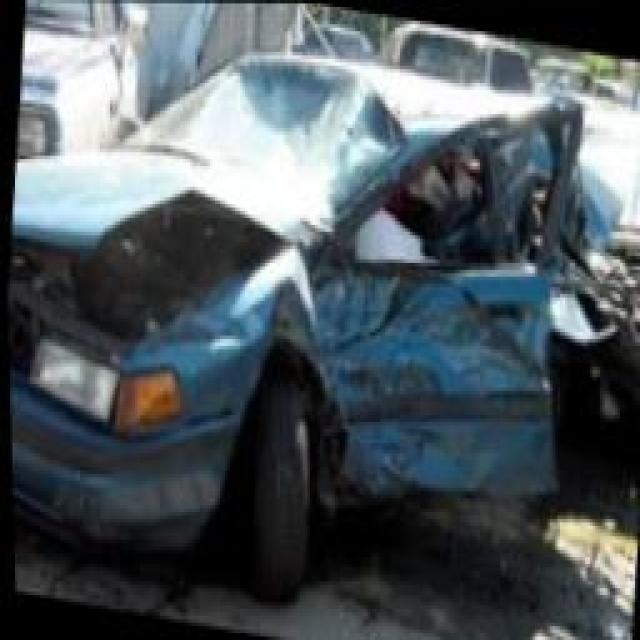Bonnet: (6, 140, 297, 370)
Bumper: (8, 375, 235, 560)
Door: (298, 99, 577, 505), (473, 104, 627, 501)
Fender: (164, 240, 309, 418)
Windshield: (114, 43, 421, 239)
